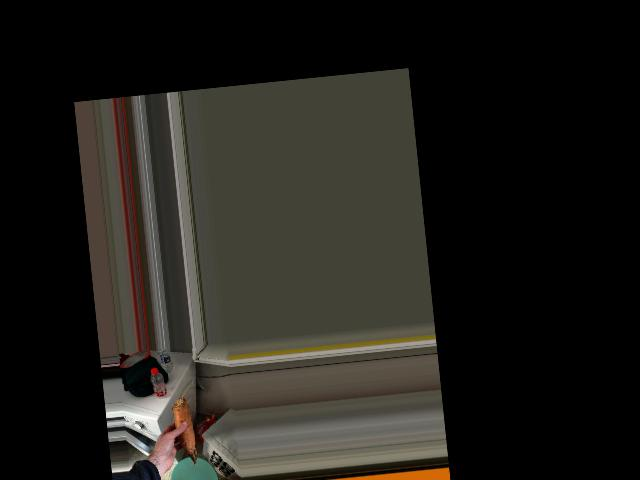sweet_potato: (174, 394, 195, 466)
